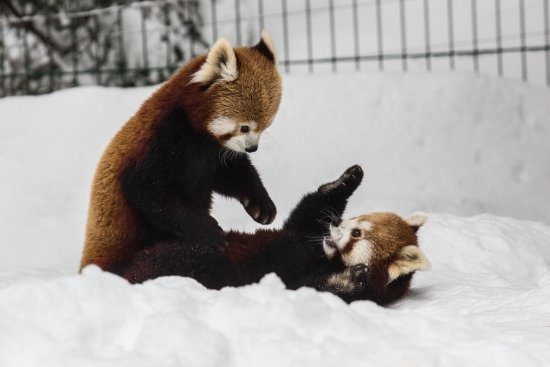red_panda: (78, 45, 285, 293), (205, 169, 435, 314)
